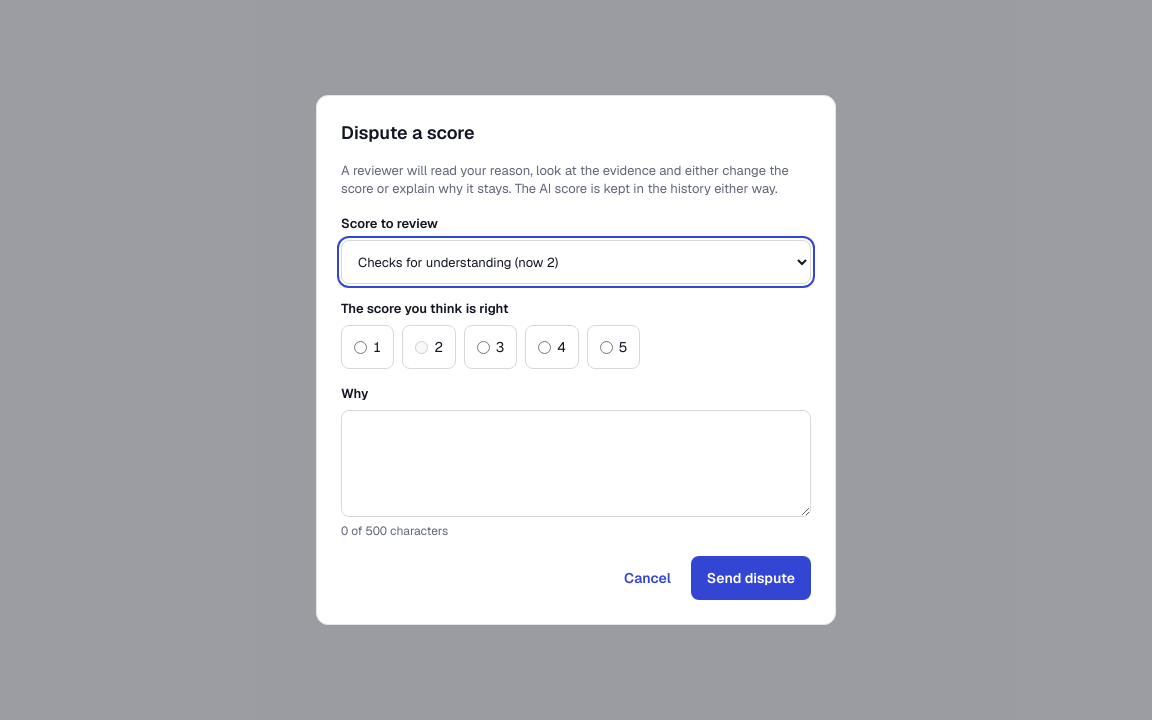
Scenario: DisputeDialog › keeps the dialog open and says so when sending fails
Click the radio button labelled "4". click: (545, 347)
box: x1=538 y1=340 x2=551 y2=354
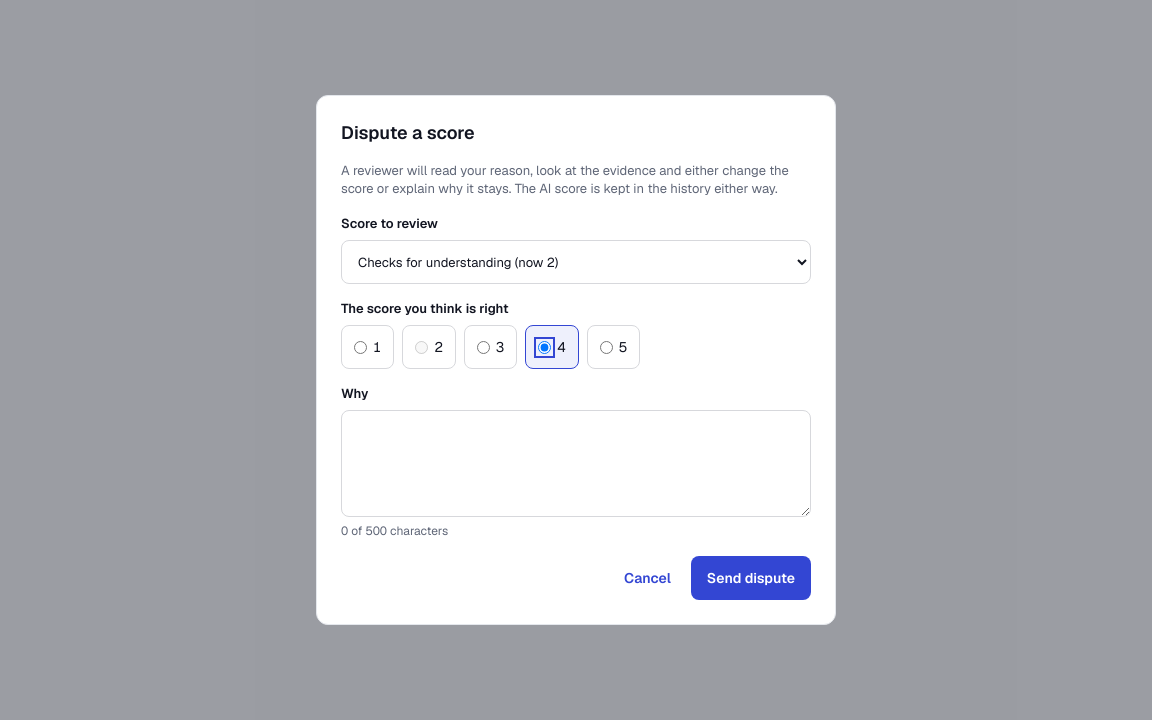
Type "The pacing was planned on purpose." into the text box labelled "Why". click: (576, 464)
box: x1=341 y1=410 x2=811 y2=517
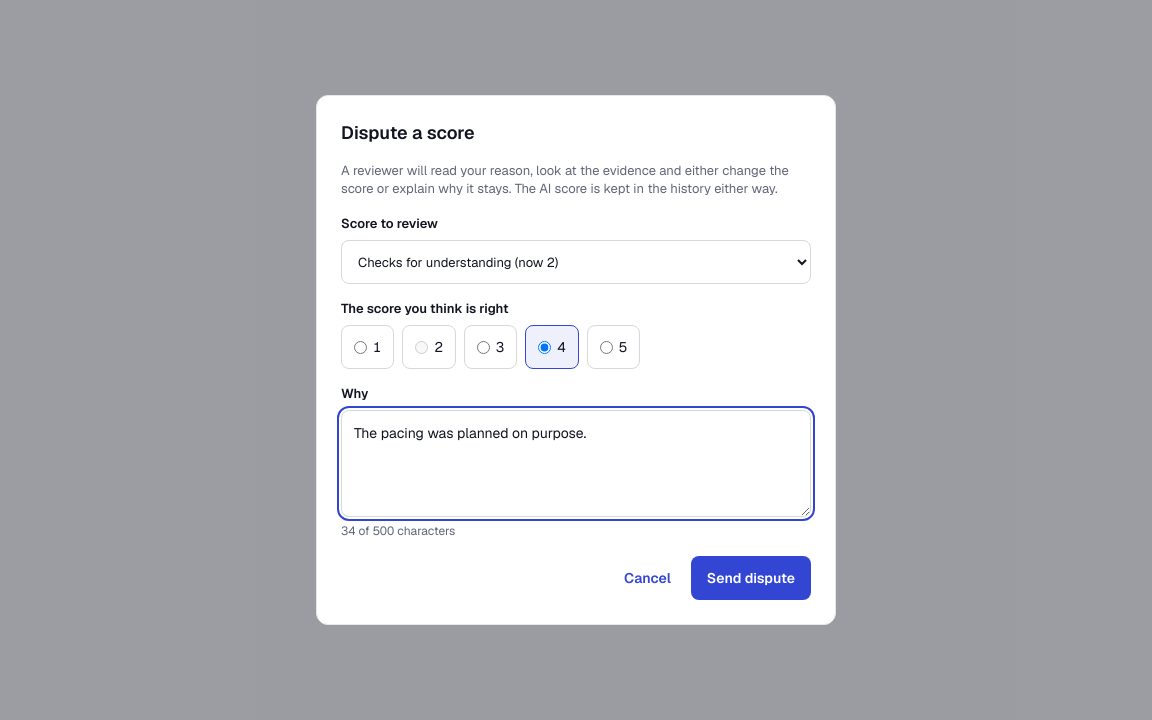
Click the button "Send dispute". click: (751, 578)
box: x1=691 y1=556 x2=811 y2=600
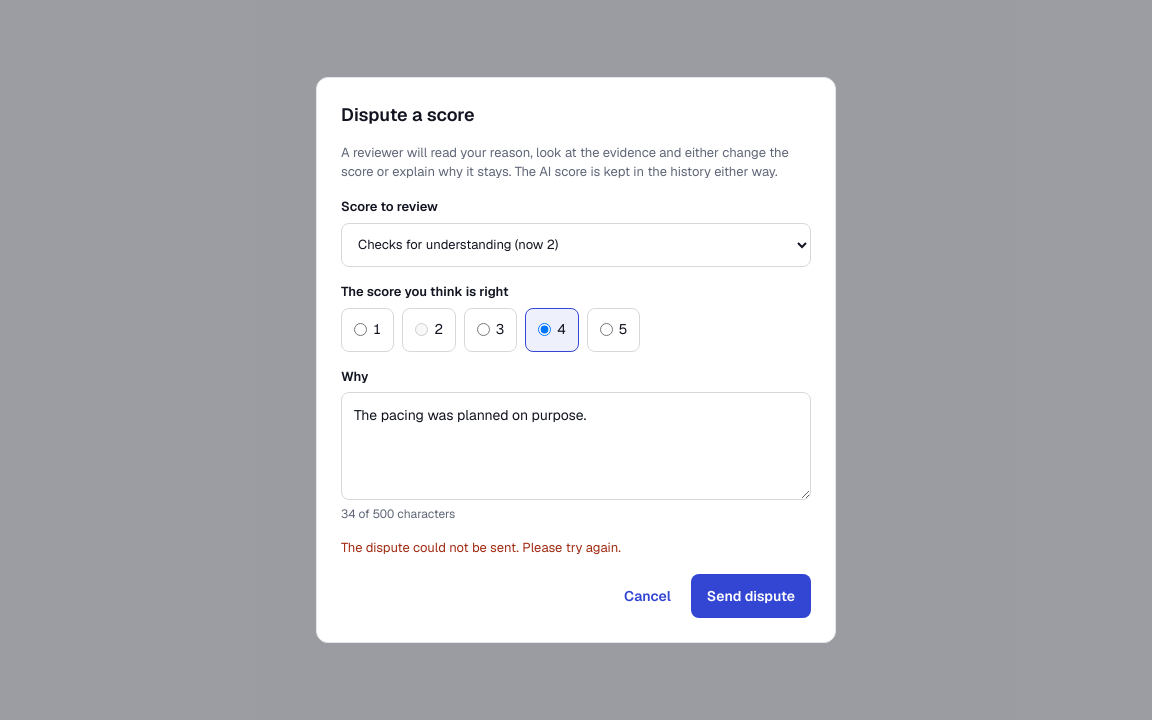
Expected: the message shows "could not be sent", x1=341 y1=539 x2=621 y2=556
